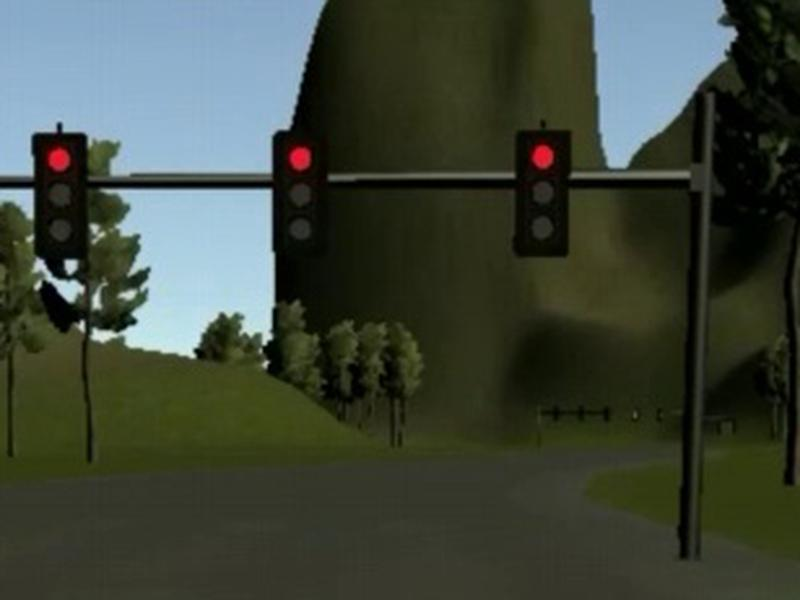Red: (512, 130, 571, 257), (33, 134, 86, 257), (273, 131, 326, 254)
